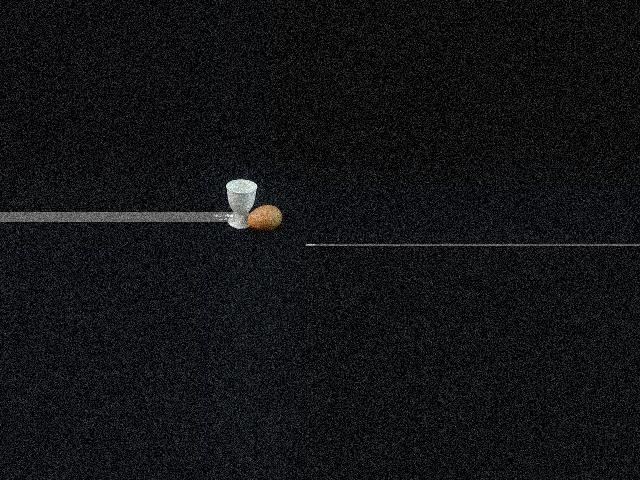egg: (246, 205, 281, 230)
